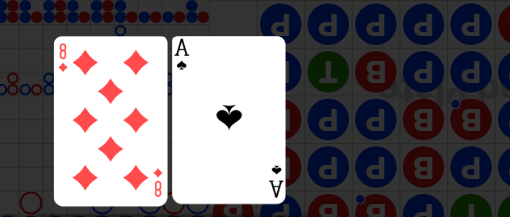8D: (58, 42, 69, 74)
AS: (267, 162, 283, 199)
